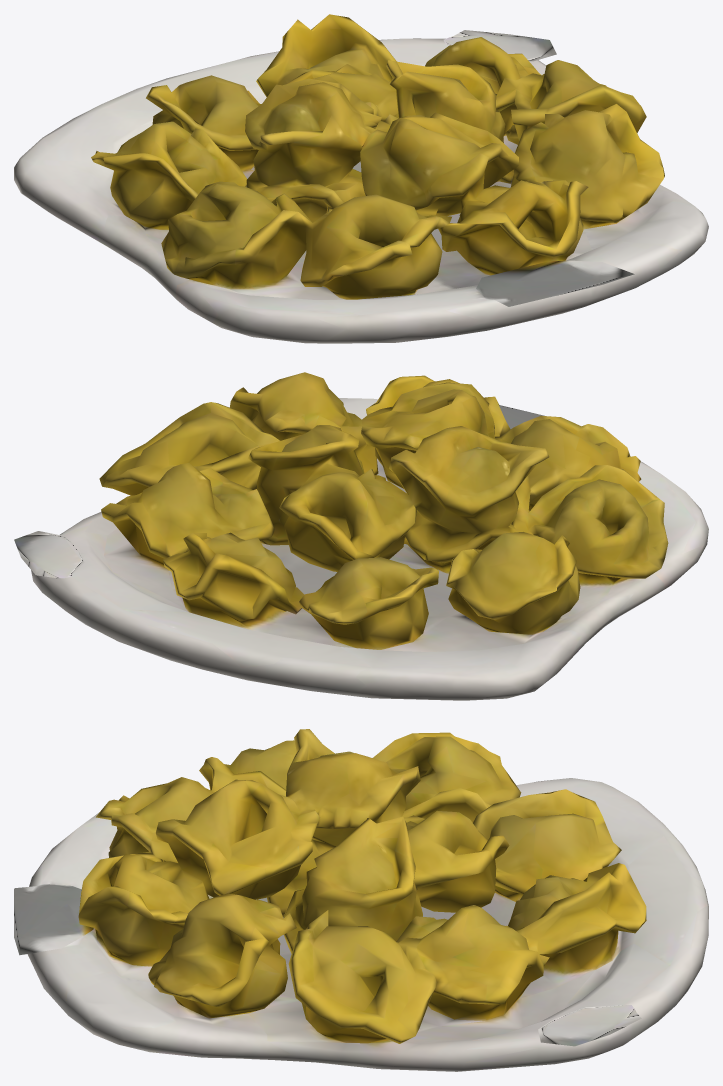
File: tortellini_plate.glb
3 renders of one model, top to bottom at view 1: azimuth 30°, elevation 25°; view 2: azimuth 150°, elevation 25°; view 3: azimuth 270°, elevation 25°, orthographic. The views are drawn at different scales.
Parts seen in each view (by area): view 1: tripo_node_3472e46e-6785-4198-8a80-f249182e8605; view 2: tripo_node_3472e46e-6785-4198-8a80-f249182e8605; view 3: tripo_node_3472e46e-6785-4198-8a80-f249182e8605.
Boxes of the visible parts, <box> form: tripo_node_3472e46e-6785-4198-8a80-f249182e8605: <box>14,14,708,343</box>; tripo_node_3472e46e-6785-4198-8a80-f249182e8605: <box>14,372,708,700</box>; tripo_node_3472e46e-6785-4198-8a80-f249182e8605: <box>14,729,708,1071</box>.
Size of the model in its own units: 0.395 by 0.1078 by 0.42.
1 material, 1 textured.
